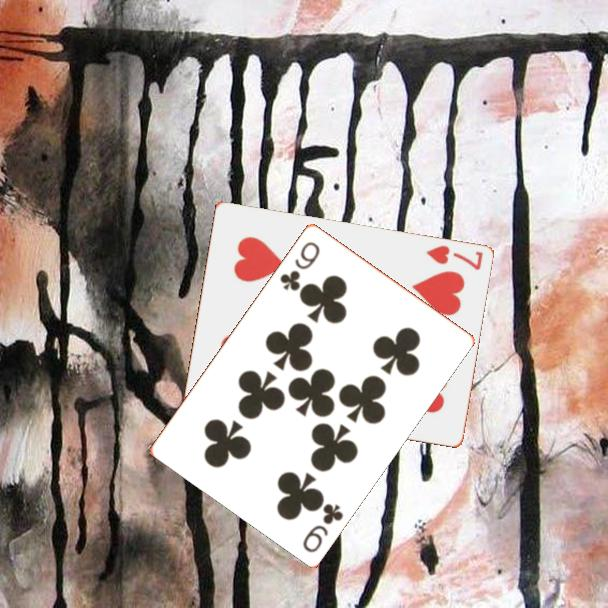c09: (276, 238, 323, 294), (299, 499, 346, 555)
h07: (422, 242, 485, 273)
